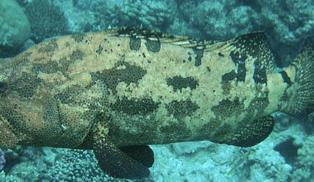Serranidae -Groupers-: (0, 22, 314, 178)
